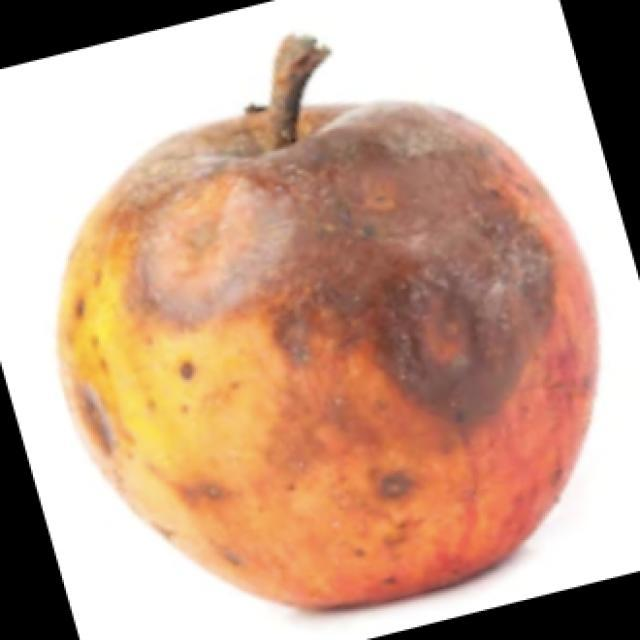Rotten: (60, 92, 602, 600)
